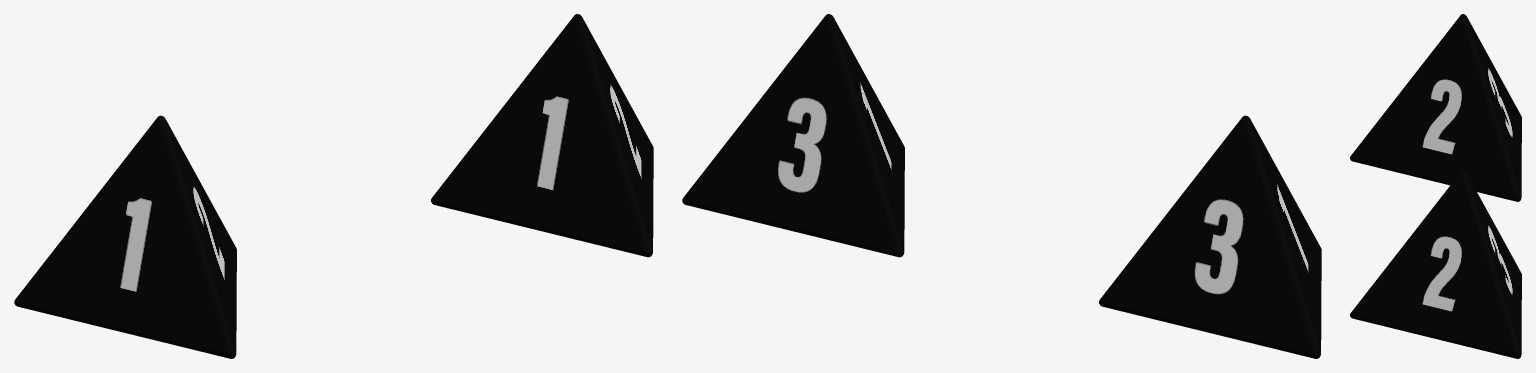
Rendered from animationMeshes.glb.
3 views of the same model, side by side, from view 1: azimuth 30°, elevation 25°; view 2: azimuth 150°, elevation 25°; view 3: azimuth 270°, elevation 25° (orthographic). The views are drawn at different scales.
Parts seen in each view (by area): view 1: staticMesh, animatedMesh; view 2: animatedMesh, staticMesh; view 3: staticMesh, animatedMesh.
Part boxes in pixels (bbox=[...]): staticMesh: bbox=[431, 14, 653, 257]; animatedMesh: bbox=[14, 115, 236, 358]; animatedMesh: bbox=[1099, 115, 1321, 358]; staticMesh: bbox=[682, 14, 904, 257]; staticMesh: bbox=[1350, 171, 1521, 358]; animatedMesh: bbox=[1350, 14, 1521, 201].
Bounding box in the file's own units: 30.61 × 8.75 × 9.25.
Materials: 1 (1 with a texture image).
